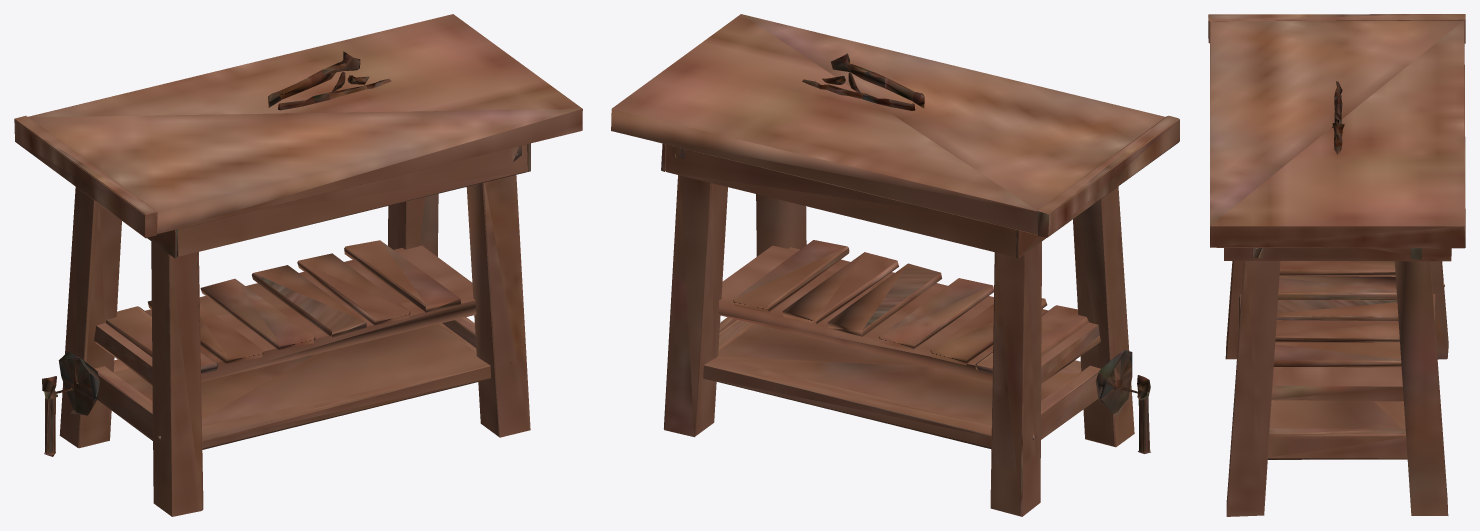
Rendered from workbench.lod2.glb.
3 views of the same model, side by side, from view 1: azimuth 30°, elevation 25°; view 2: azimuth 150°, elevation 25°; view 3: azimuth 270°, elevation 25° (orthographic).
Size of the model in its own units: 1.24 by 0.9176 by 0.5907.
Materials: 1 (1 with a texture image).
